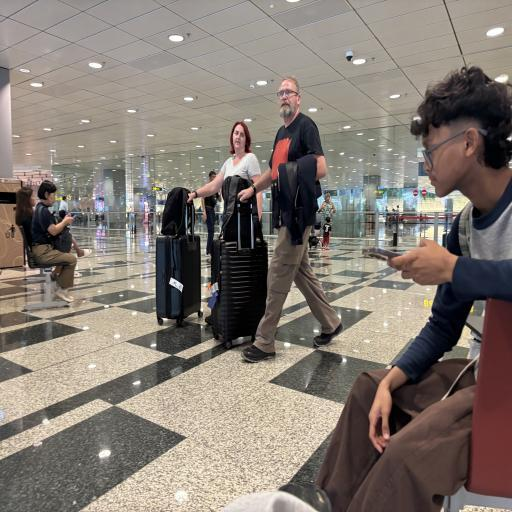person_with_luggage_left: (236, 74, 338, 374), (164, 116, 254, 320)
